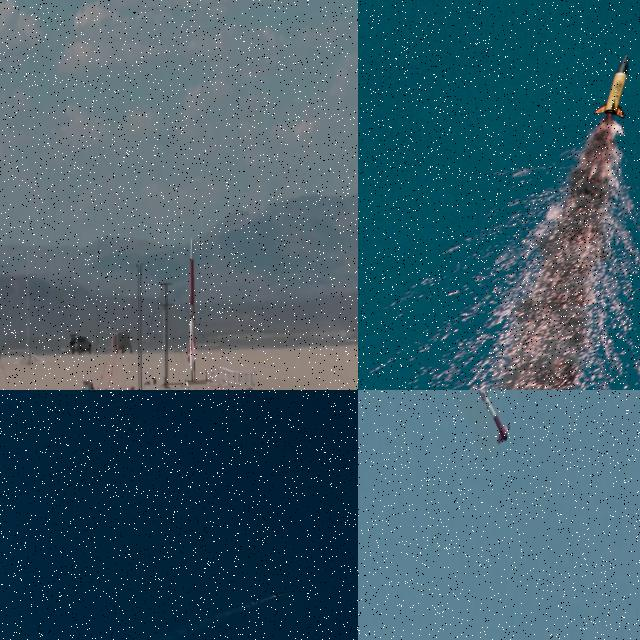Rocket: (471, 390, 514, 448), (594, 54, 629, 120), (185, 238, 195, 372), (273, 591, 286, 598)
